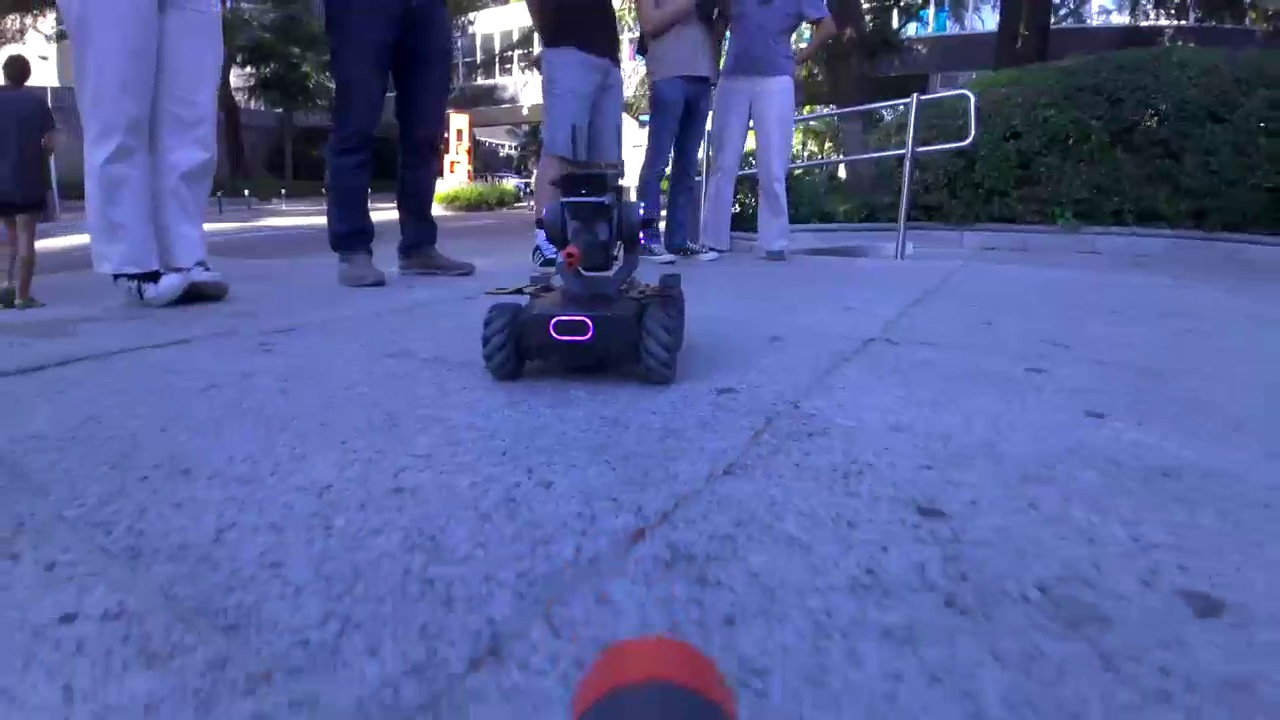robot: (480, 165, 688, 389)
